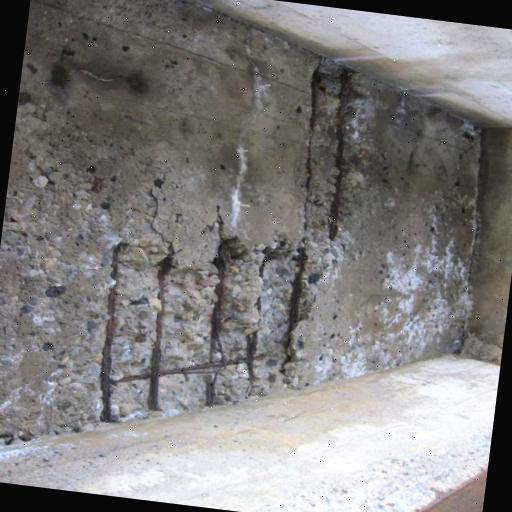spalling: (95, 73, 367, 421)
